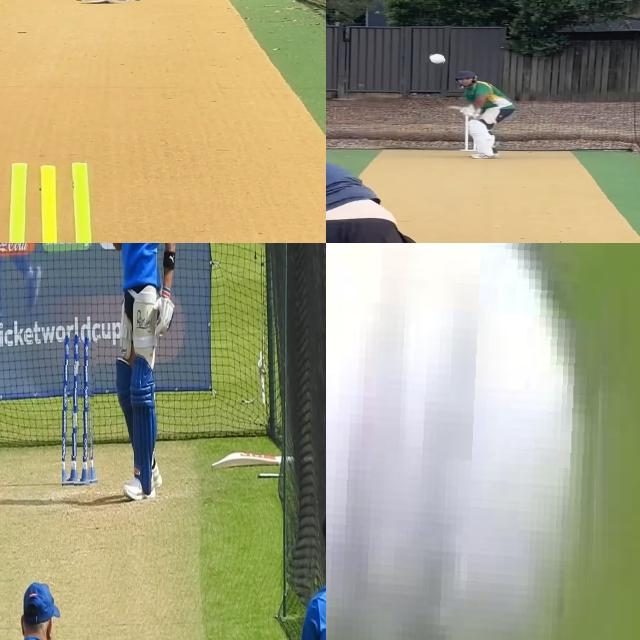Cricket ball: (326, 243, 609, 640), (425, 51, 450, 65)
Stumps: (62, 330, 97, 487)
